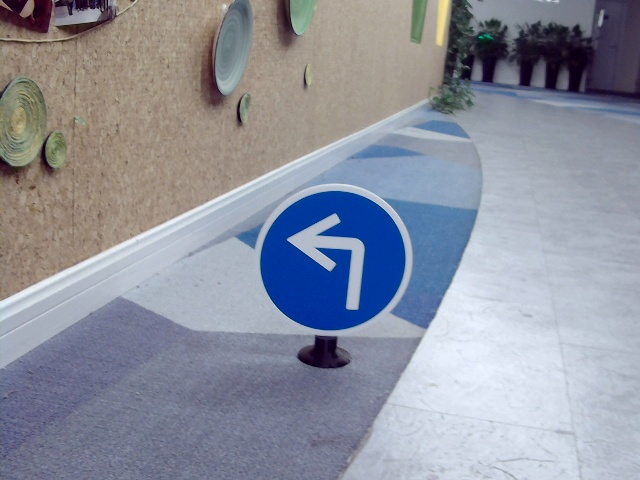turn_left: (286, 211, 366, 310)
